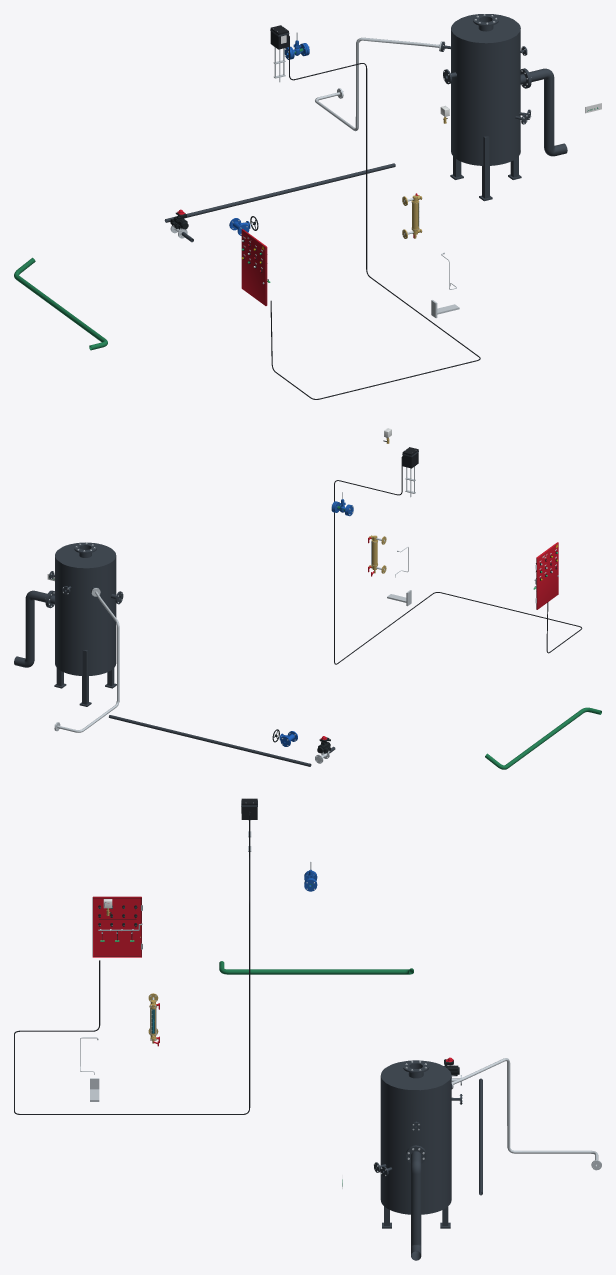
3 views of the same model, one above another, from view 1: azimuth 30°, elevation 25°; view 2: azimuth 150°, elevation 25°; view 3: azimuth 270°, elevation 25° (orthographic). The views are drawn at different scales.
Parts seen in each view (by area): view 1: separator_bdv60_5 / dark, cabinet_door / cabinet_door_5.npz, gpz_drive_cable / black, bdv_water_drain / dark, bottom_discharge / dark, trap_gap_to_bdv / steel, deaerator_feed / green; view 2: separator_bdv60_5 / dark, cabinet_door / cabinet_door_5.npz, bdv_water_drain / dark, gpz_drive_cable / black, bottom_discharge / dark, deaerator_feed / green, trap_gap_to_bdv / steel; view 3: separator_bdv60_5 / dark, cabinet_door / cabinet_door_5.npz, bdv_water_drain / dark, gpz_drive_cable / black, deaerator_feed / green, trap_gap_to_bdv / steel.
Boxes of the visible parts, box(x1,y1,x2,y2) form: separator_bdv60_5 / dark: box(441, 14, 530, 201); cabinet_door / cabinet_door_5.npz: box(241, 229, 267, 305); gpz_drive_cable / black: box(270, 35, 480, 399); bdv_water_drain / dark: box(524, 68, 567, 156); bottom_discharge / dark: box(164, 163, 395, 222); trap_gap_to_bdv / steel: box(315, 37, 442, 131); deaerator_feed / green: box(14, 257, 107, 350); separator_bdv60_5 / dark: box(47, 542, 123, 706); cabinet_door / cabinet_door_5.npz: box(535, 542, 558, 609); bdv_water_drain / dark: box(14, 590, 52, 667); gpz_drive_cable / black: box(334, 456, 582, 664); bottom_discharge / dark: box(109, 715, 311, 766); deaerator_feed / green: box(485, 707, 601, 769); trap_gap_to_bdv / steel: box(54, 588, 119, 732); separator_bdv60_5 / dark: box(374, 1060, 461, 1228); cabinet_door / cabinet_door_5.npz: box(92, 896, 142, 957); bdv_water_drain / dark: box(406, 1146, 426, 1260); gpz_drive_cable / black: box(14, 813, 250, 1114); deaerator_feed / green: box(219, 961, 413, 974); trap_gap_to_bdv / steel: box(451, 1058, 601, 1170).
Bounding box in the file's own units: 7.22 × 3.46 × 6.35.
